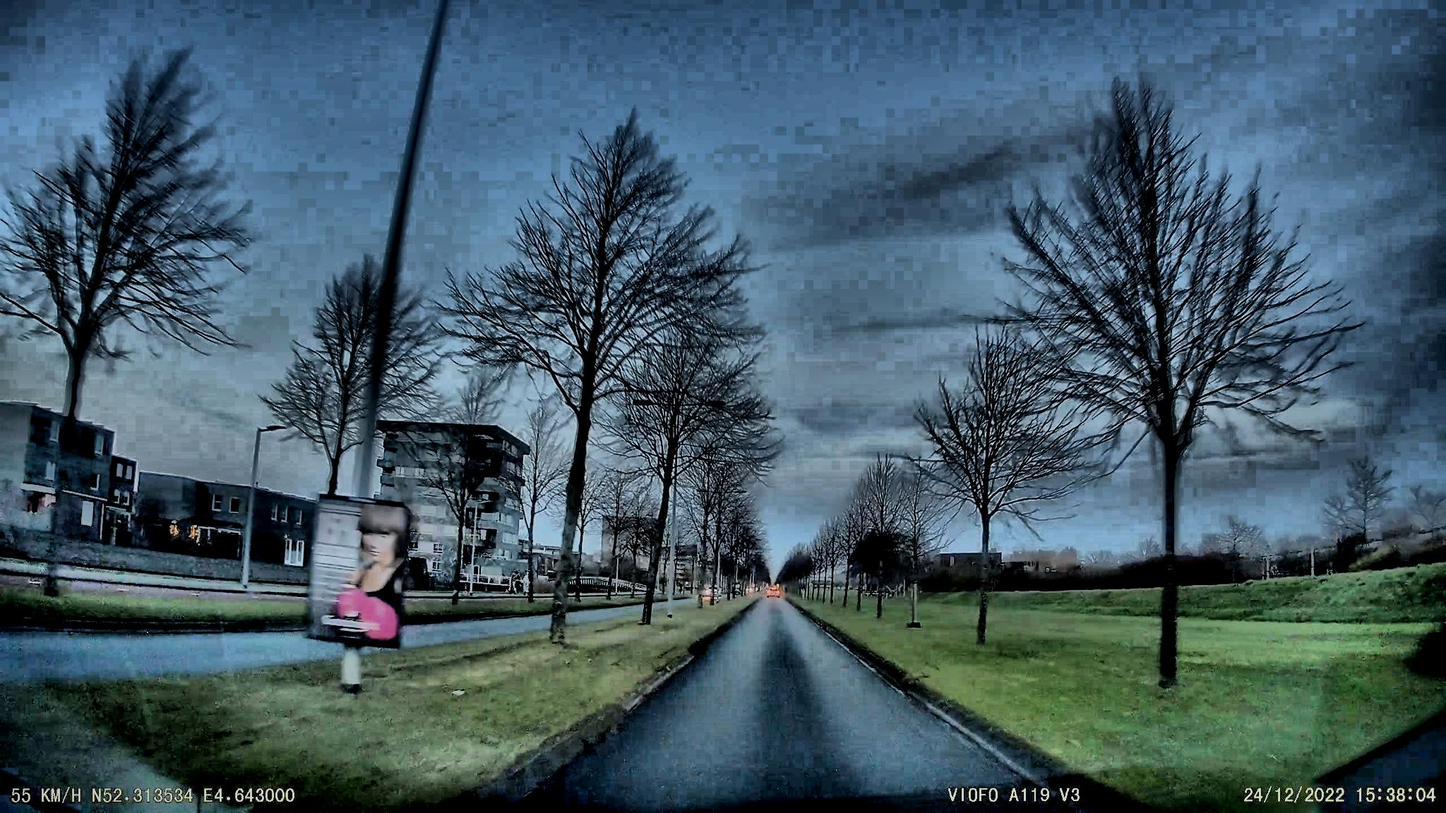Roads: (496, 592, 1134, 813)
